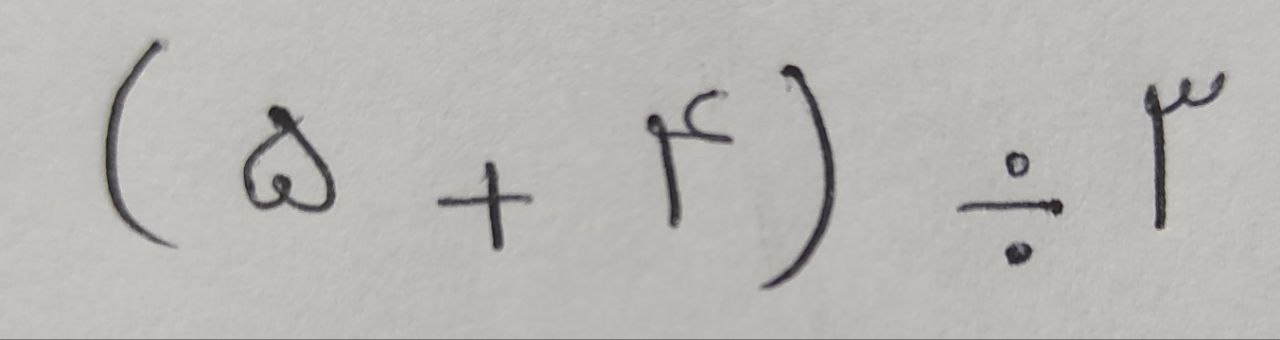character: (760, 64, 837, 289), (104, 41, 180, 250), (955, 150, 1066, 267), (1146, 74, 1227, 232), (647, 90, 736, 230), (242, 106, 336, 213), (438, 161, 532, 251)
